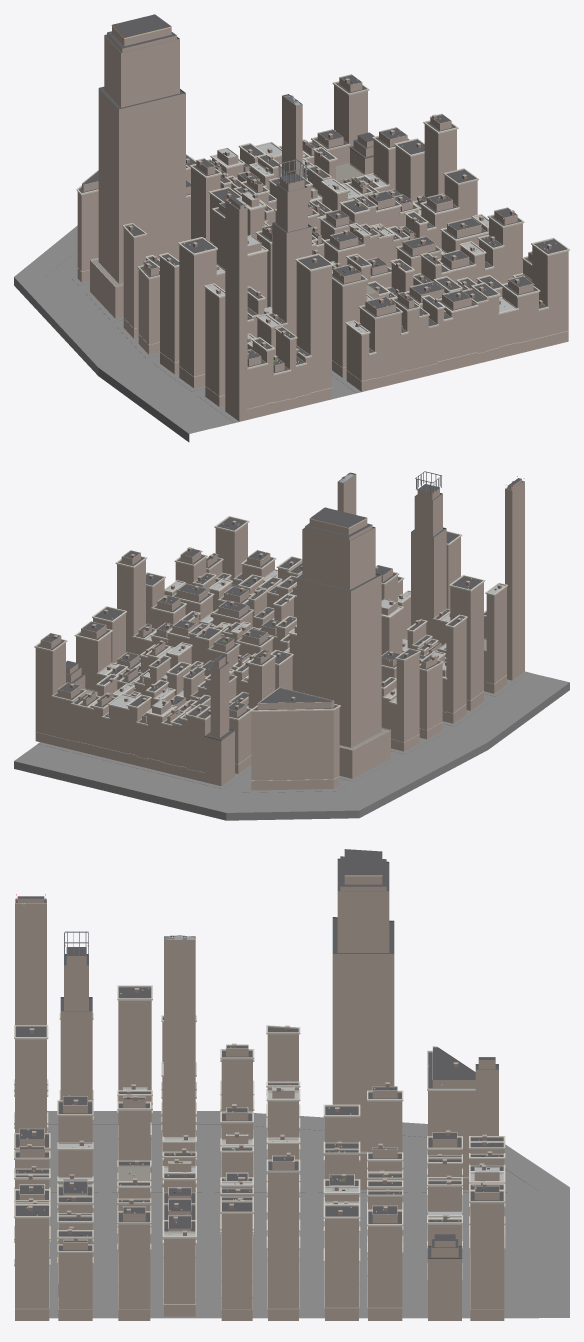
The picture shows the model from 3 angles, top to bottom: view 1: azimuth 30°, elevation 25°; view 2: azimuth 150°, elevation 25°; view 3: azimuth 270°, elevation 25°; orthographic projection. The views are drawn at different scales.
Parts seen in each view (by area): view 1: t00_facade, t00_detail, t00_roof, t00_ground; view 2: t00_facade, t00_ground, t00_detail, t00_roof; view 3: t00_facade, t00_ground, t00_detail, t00_roof.
Part boxes in pixels (box(x1,y1,x2,y2)): t00_facade: box(77, 26, 568, 421); t00_detail: box(76, 34, 569, 409); t00_roof: box(79, 14, 566, 373); t00_ground: box(14, 225, 361, 442); t00_facade: box(35, 474, 524, 790); t00_ground: box(14, 671, 569, 820); t00_detail: box(34, 472, 524, 781); t00_roof: box(37, 471, 524, 750); t00_facade: box(15, 876, 504, 1320); t00_ground: box(47, 1111, 569, 1318); t00_detail: box(14, 858, 505, 1309); t00_roof: box(15, 849, 503, 1257).
Size of the model in its own units: 386 by 271 by 431.
